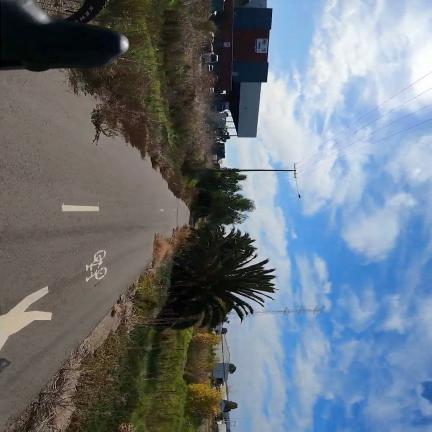Bike_Lane: (0, 71, 188, 422)
